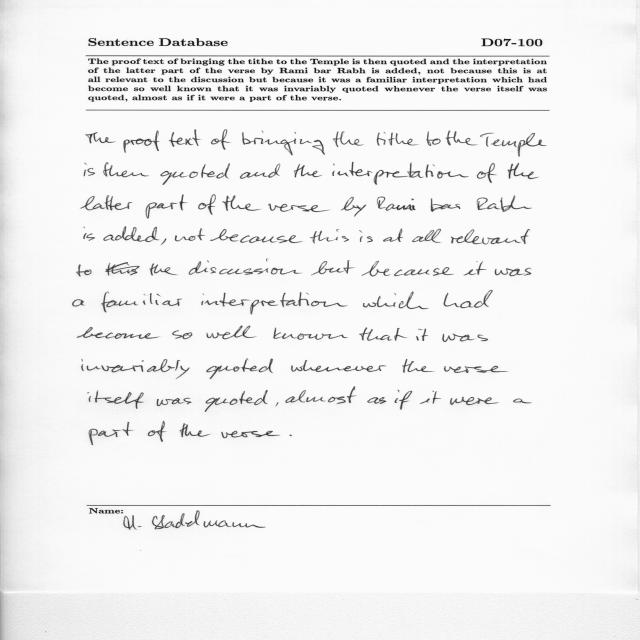word: (201, 292, 348, 315), (332, 162, 469, 185), (82, 359, 190, 379), (242, 131, 325, 155), (189, 259, 302, 275), (101, 292, 182, 313), (480, 133, 546, 157), (160, 163, 230, 185), (361, 261, 454, 276), (205, 390, 268, 412), (207, 359, 274, 379), (210, 229, 303, 243), (286, 387, 357, 404), (451, 229, 530, 244), (291, 360, 387, 372), (363, 292, 429, 309), (87, 390, 144, 409), (89, 422, 134, 445), (105, 262, 178, 276), (146, 195, 188, 219), (77, 327, 159, 339), (273, 327, 348, 340), (444, 290, 493, 308), (477, 196, 532, 212), (103, 227, 160, 242), (124, 131, 160, 153), (81, 195, 132, 210), (103, 163, 149, 178), (359, 327, 407, 341), (311, 261, 355, 276), (207, 326, 256, 339), (222, 195, 261, 211), (240, 164, 280, 179), (377, 132, 419, 146), (310, 229, 349, 244), (377, 197, 416, 211), (169, 130, 201, 147), (341, 197, 366, 217), (508, 163, 539, 179), (269, 204, 330, 212), (333, 131, 363, 147), (446, 131, 477, 146), (444, 366, 508, 373), (180, 423, 211, 437), (431, 198, 461, 212), (402, 359, 434, 372), (221, 431, 280, 438), (412, 229, 441, 243), (477, 163, 497, 183), (450, 397, 499, 405), (175, 229, 205, 242), (211, 130, 230, 150), (148, 421, 166, 442), (442, 334, 488, 342), (294, 164, 322, 177), (198, 195, 216, 215), (395, 390, 413, 410), (86, 132, 115, 143), (464, 261, 486, 275), (495, 268, 532, 276), (383, 228, 403, 242), (157, 398, 192, 406), (420, 391, 441, 404), (426, 131, 441, 146), (172, 330, 193, 339), (359, 230, 373, 243), (77, 265, 92, 277), (84, 226, 95, 241), (416, 328, 428, 341), (84, 163, 95, 176), (367, 397, 386, 404), (72, 299, 85, 306), (513, 399, 531, 404), (161, 239, 166, 245), (276, 402, 279, 407), (290, 435, 293, 436)
